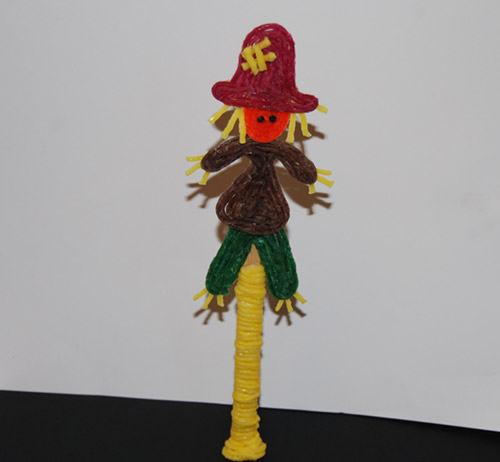person-like: (180, 18, 333, 325)
